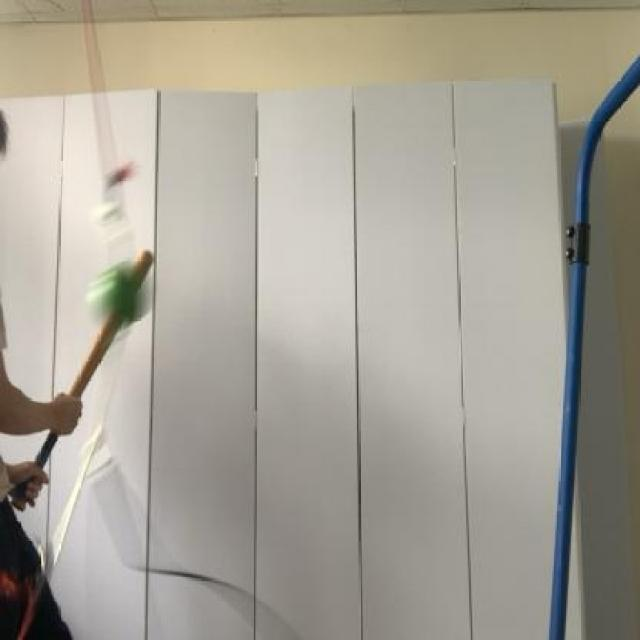baseball: (79, 247, 161, 336)
